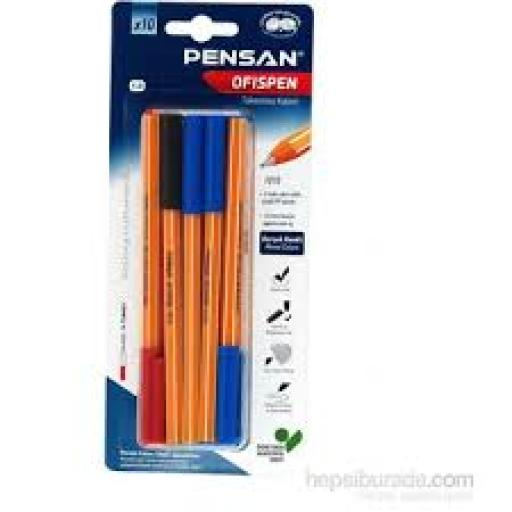tukenmez-kalem: (136, 110, 257, 464)
